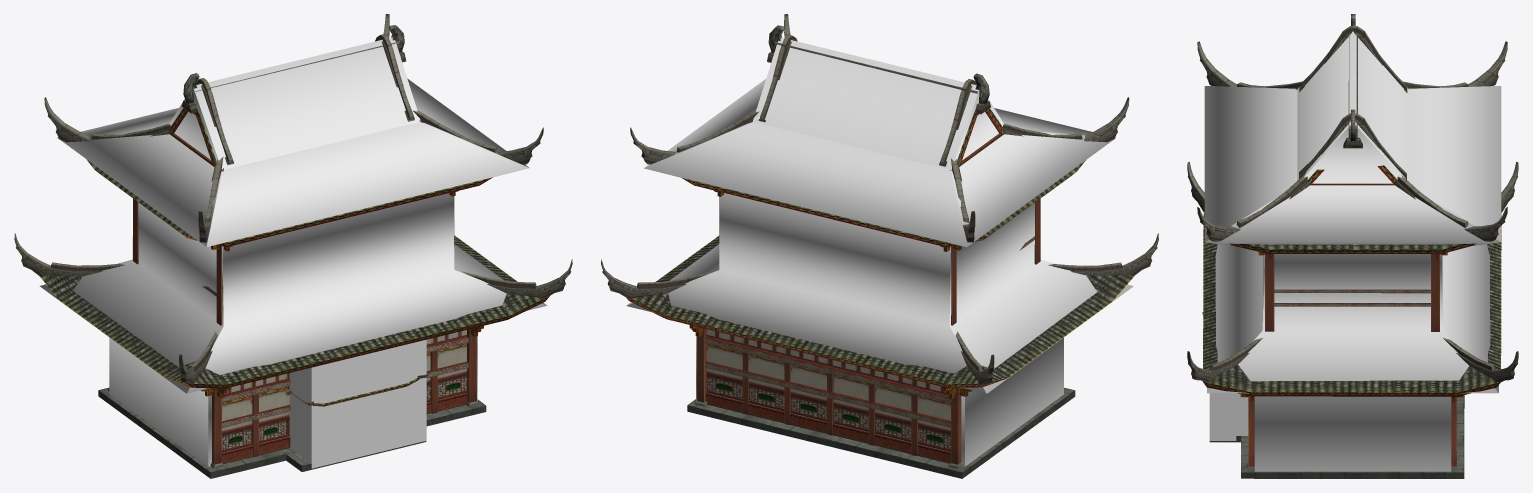
Rendered from YHJ_chalou.FBX.
3 views of the same model, side by side, from view 1: azimuth 30°, elevation 25°; view 2: azimuth 150°, elevation 25°; view 3: azimuth 270°, elevation 25° (orthographic).
Visible parts, largest first — view 1: YHJ_chalou-col, YHJ_chalou; view 2: YHJ_chalou-col, YHJ_chalou; view 3: YHJ_chalou-col, YHJ_chalou.
Part boxes in pixels (left/top/right/bottom): YHJ_chalou-col: left=39, top=37, right=547, bottom=468; YHJ_chalou: left=14, top=14, right=572, bottom=478; YHJ_chalou-col: left=626, top=37, right=1133, bottom=466; YHJ_chalou: left=601, top=14, right=1158, bottom=478; YHJ_chalou-col: left=1204, top=31, right=1501, bottom=471; YHJ_chalou: left=1187, top=14, right=1518, bottom=478.
Bounding box in the file's own units: 32.65 × 28.08 × 24.04.
